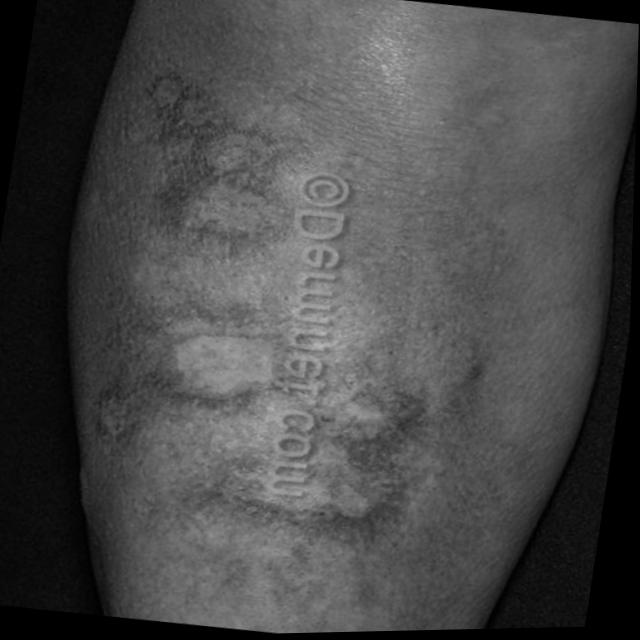Eczema: (60, 36, 465, 542)
